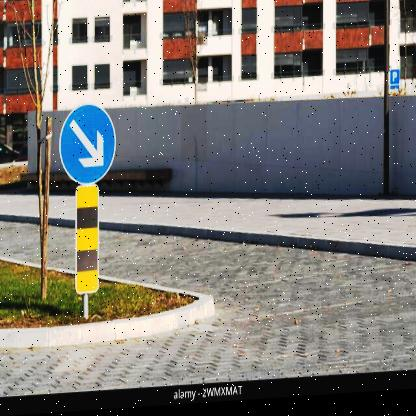Keep right: (59, 99, 121, 192)
